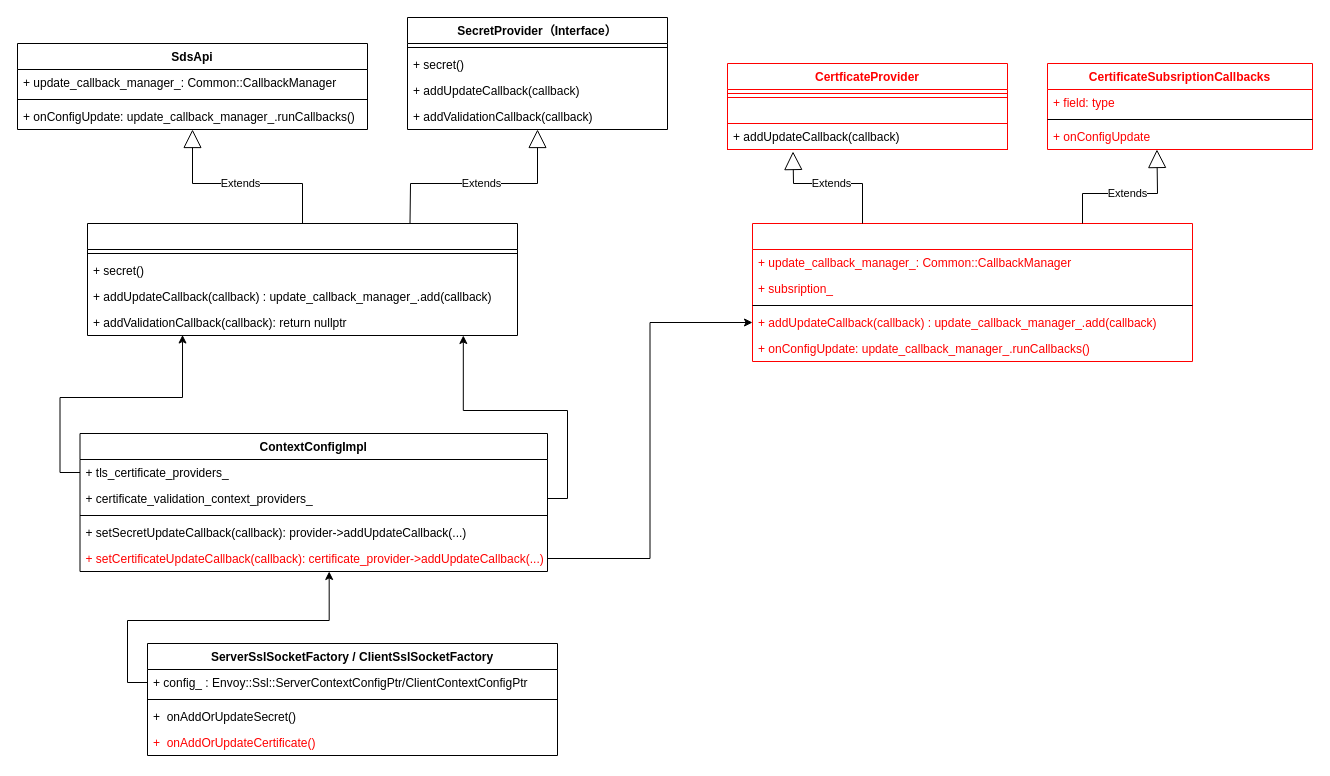
The diagram is 1330 pixels wide and 776 high, and some of its shapes have lost their labels. The box of each missing label's shape, as (x1, y1, x2, y2) in pixels:
+ certPairs() caCert(): (726, 96, 1008, 124)
SomeAsyncCertificateProviderImpl: (752, 222, 1192, 362)
TlsCertficateProviderApi: (86, 222, 518, 336)
